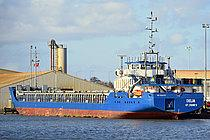Ship: (7, 6, 209, 124)
